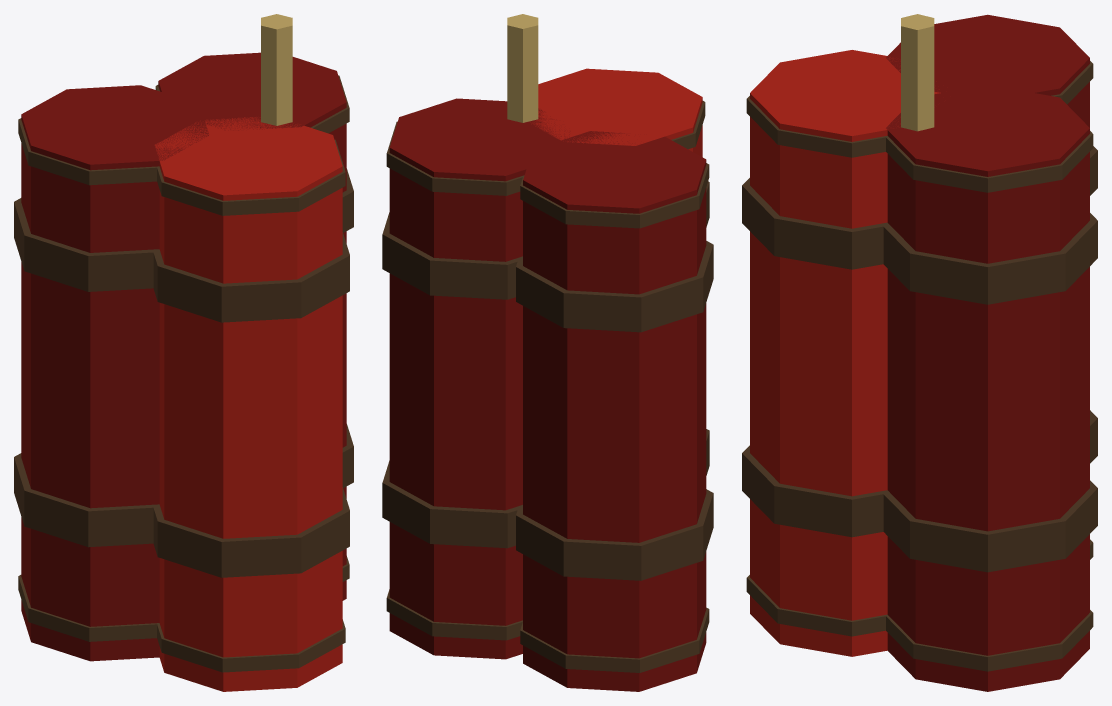
File: dynamite.obj
3 views of the same model, side by side, from view 1: azimuth 30°, elevation 25°; view 2: azimuth 150°, elevation 25°; view 3: azimuth 270°, elevation 25° (orthographic). The views are drawn at different scales.
Parts seen in each view (by area): view 1: Dynamite; view 2: Dynamite; view 3: Dynamite.
Part boxes in pixels (x1,y1,x2,y2): Dynamite: (14,14,353,691); Dynamite: (382,14,713,691); Dynamite: (742,14,1097,691).
Size of the model in its own units: 0.242 by 0.43 by 0.223.
